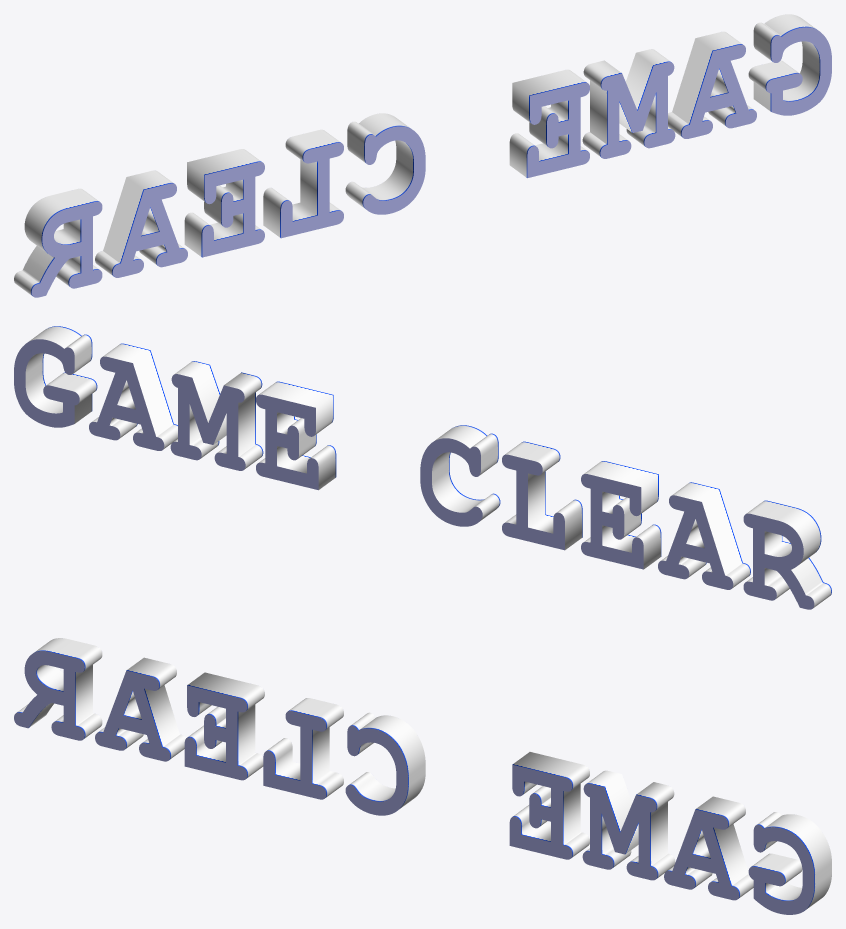
File: Clear.obj
3 views of the same model, one above another, from view 1: azimuth 30°, elevation 25°; view 2: azimuth 150°, elevation 25°; view 3: azimuth 330°, elevation 25° (orthographic).
Parts seen in each view (by area): view 1: テキスト; view 2: テキスト; view 3: テキスト.
Boxes of the visible parts, bbox=[...] form: テキスト: bbox=[14, 14, 831, 297]; テキスト: bbox=[14, 326, 831, 609]; テキスト: bbox=[14, 638, 831, 914].
Bounding box in the file's own units: 53.68 × 5.51 × 2.05.
Materials: 1 (1 with a texture image).
